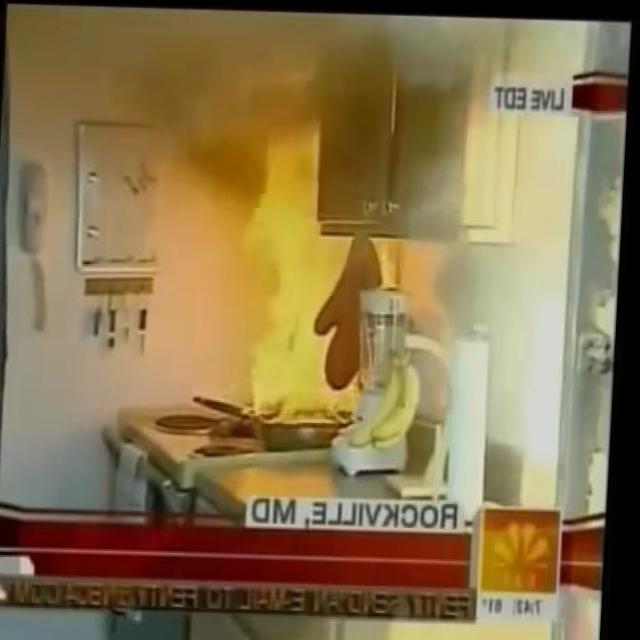fire: (241, 115, 389, 428)
